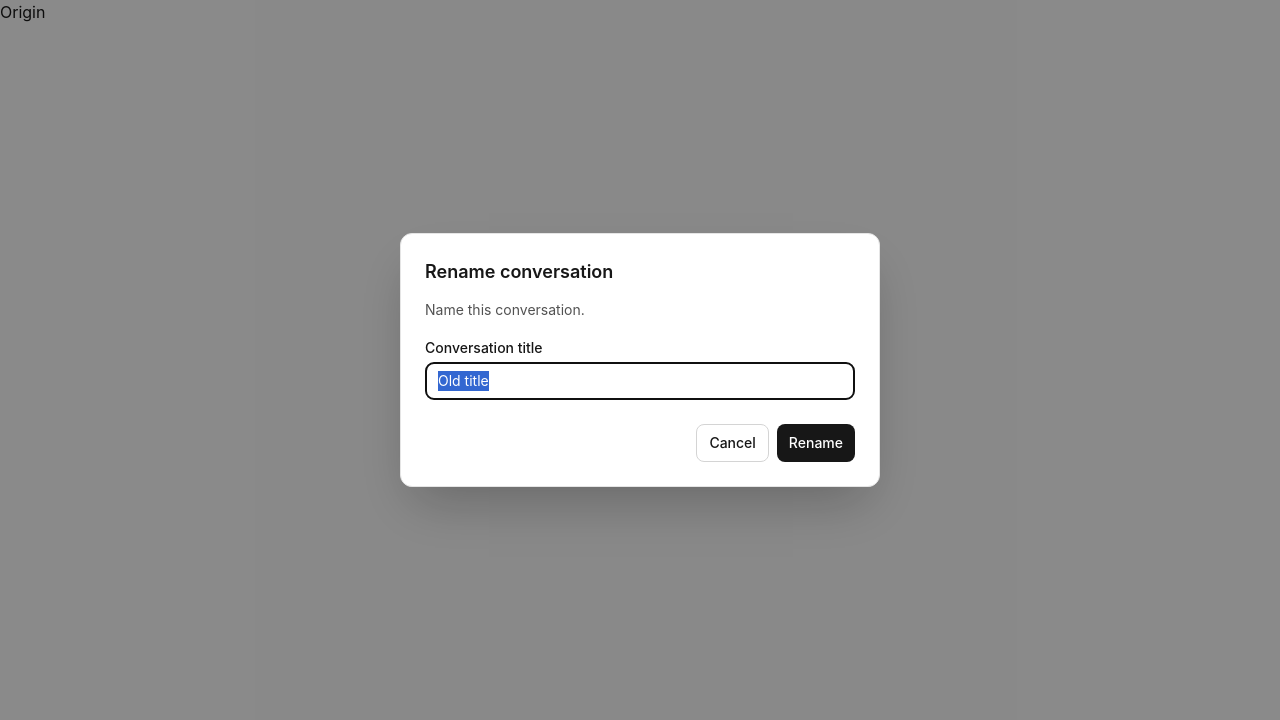
Test: resolves a prompt with the edited text and restores focus
Replace the text in the field labelled "Conversation title" with "New title" at point(640, 381), box [425,362,855,400]
Then press Enter
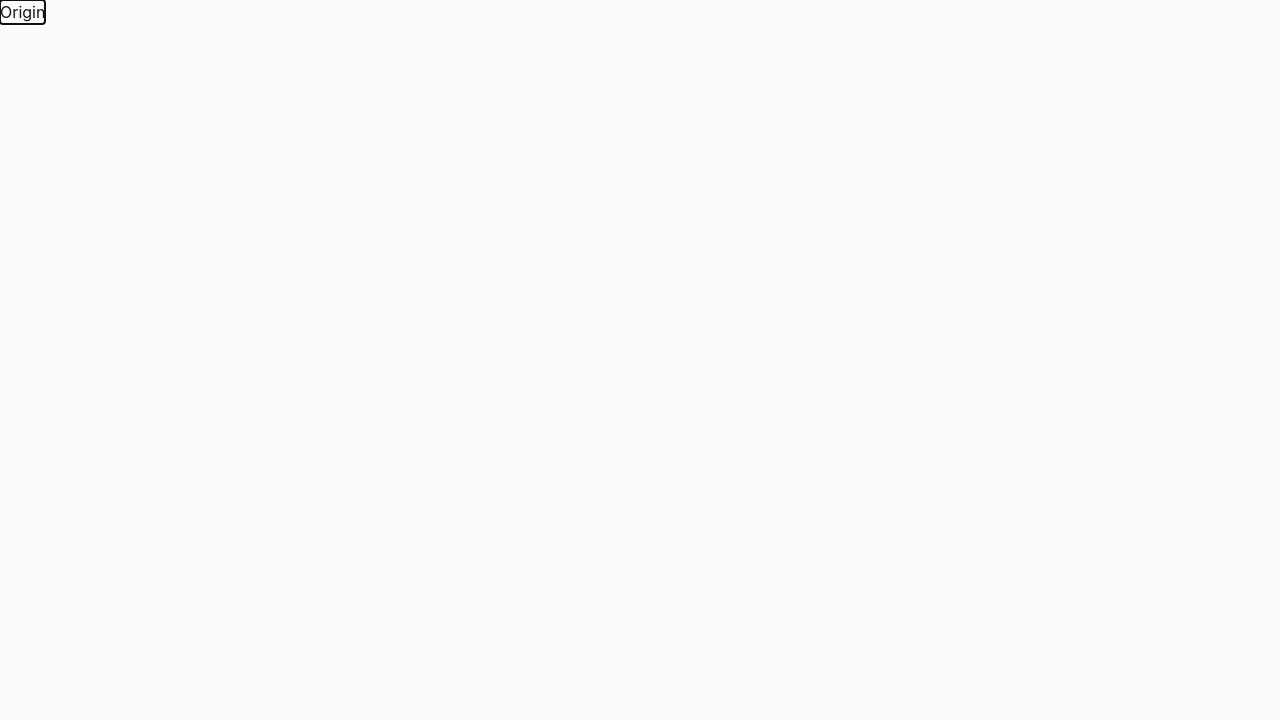
Expected: the field is gone
